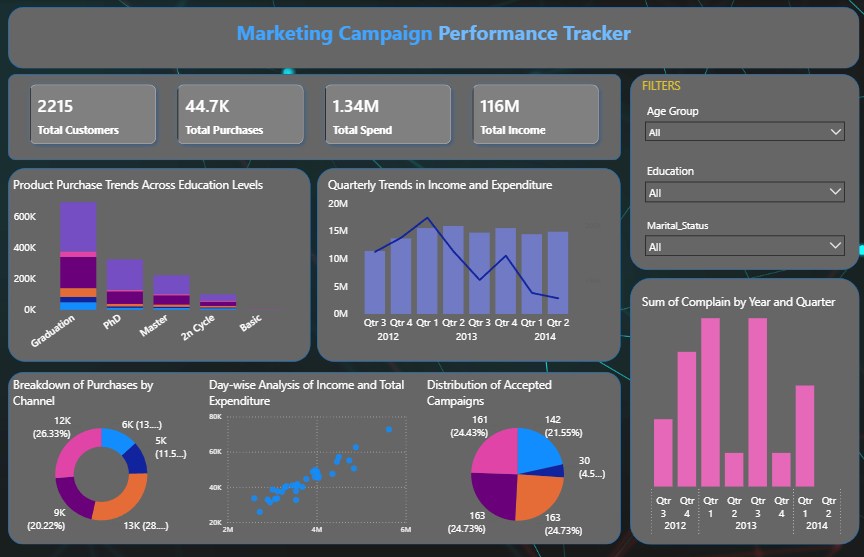

The dashboard page shown, as its layout file describes it:
{"tool":"powerbi","page":{"name":"Page 1","canvas":[1400,900],"ordinal":0},"visuals":[{"type":"shape","box":[1017.5,121.1,370.5,316.3],"z":0},{"type":"shape","box":[1017.5,450,370.5,430.1],"z":1000},{"type":"shape","box":[14.5,601.8,988.6,278.3],"z":2000},{"type":"shape","box":[513.3,272.9,489.8,312.7],"z":3000},{"type":"shape","box":[14.5,272.9,488,312.7],"z":4000},{"type":"shape","box":[14.5,121.1,988.6,139.2],"z":5000},{"type":"shape","box":[14.5,12.7,1373.5,99.4],"z":6000},{"type":"clusteredColumnChart","fields":{"Category":["marketing_data.Dt_Customer.Variation.Date Hierarchy.Year","marketing_data.Dt_Customer.Variation.Date Hierarchy.Quarter"],"Y":["Sum(marketing_data.Complain)"]},"box":[1031.9,475.3,341.6,397.6],"z":7000},{"type":"pieChart","title":"Distribution of Accepted Campaigns","fields":{"Y":["Sum(marketing_data.AcceptedCmp1)","Sum(marketing_data.AcceptedCmp2)","Sum(marketing_data.AcceptedCmp3)","Sum(marketing_data.AcceptedCmp4)","Sum(marketing_data.AcceptedCmp5)"]},"box":[684.9,609,301.8,263.9],"z":8000},{"type":"donutChart","title":"Breakdown of Purchases by Channel","fields":{"Y":["Sum(marketing_data.NumCatalogPurchases)","Sum(marketing_data.NumDealsPurchases)","Sum(marketing_data.NumStorePurchases)","Sum(marketing_data.NumWebPurchases)","Sum(marketing_data.NumWebVisitsMonth)"]},"box":[18.1,609,294.6,263.9],"z":9000},{"type":"lineClusteredColumnComboChart","title":"Quarterly Trends in Income and Expenditure","fields":{"Y":["Sum(marketing_data.Income)"],"Category":["marketing_data.Dt_Customer.Variation.Date Hierarchy.Year","marketing_data.Dt_Customer.Variation.Date Hierarchy.Quarter"],"Y2":["Sum(marketing_data.TotalSpend)"]},"box":[525.9,287.3,460.8,281.9],"z":10000},{"type":"lineStackedColumnComboChart","title":"Product Purchase Trends Across Education Levels","fields":{"Category":["marketing_data.Education"],"Y":["Sum(marketing_data.MntFishProducts)","Sum(marketing_data.MntFruits)","Sum(marketing_data.MntGoldProds)","Sum(marketing_data.MntMeatProducts)","Sum(marketing_data.MntSweetProducts)","Sum(marketing_data.MntWines)"]},"box":[18.1,287.3,477.1,298.2],"z":11000},{"type":"scatterChart","title":"Day-wise Analysis of Income and Total Expenditure","fields":{"X":["Sum(marketing_data.Income)"],"Category":["marketing_data.Dt_Customer.Variation.Date Hierarchy.Day"],"Y":["Sum(marketing_data.TotalSpend)"]},"box":[334.3,609,336.1,263.9],"z":12000},{"type":"cardVisual","fields":{"Data":["CountNonNull(marketing_data.ID)","Sum(marketing_data.TotalPurchases)","Sum(marketing_data.TotalSpend)","Sum(marketing_data.Income)"]},"box":[32.5,121.1,954.2,130.1],"z":13000},{"type":"textbox","box":[356,25.3,688.6,75.9],"z":14000},{"type":"slicer","fields":{"Values":["marketing_data.Age Group"]},"box":[1031.9,162.7,341.6,88.6],"z":15000},{"type":"slicer","fields":{"Values":["marketing_data.Education"]},"box":[1031.9,260.2,341.6,88.6],"z":16000},{"type":"slicer","fields":{"Values":["marketing_data.Marital_Status"]},"box":[1031.9,348.8,341.6,79.5],"z":17000},{"type":"textbox","box":[1031.9,121.1,122.9,41.6],"z":17001}]}

Visuals, with their boxes in screenshot pixels (x1, y1, x2, y2), scaled from the page's 1400x900 canvas onto the 864x557 screenshot:
shape: <region>628, 75, 857, 271</region>
shape: <region>628, 278, 857, 545</region>
shape: <region>9, 372, 619, 545</region>
shape: <region>317, 169, 619, 362</region>
shape: <region>9, 169, 310, 362</region>
shape: <region>9, 75, 619, 161</region>
shape: <region>9, 8, 857, 69</region>
clusteredColumnChart - marketing_data.Dt_Customer.Variation.Date Hierarchy.Year x marketing_data.Dt_Customer.Variation.Date Hierarchy.Quarter: <region>637, 294, 848, 540</region>
"Distribution of Accepted Campaigns" pieChart: <region>423, 377, 609, 540</region>
"Breakdown of Purchases by Channel" donutChart: <region>11, 377, 193, 540</region>
"Quarterly Trends in Income and Expenditure" lineClusteredColumnComboChart: <region>325, 178, 609, 352</region>
"Product Purchase Trends Across Education Levels" lineStackedColumnComboChart: <region>11, 178, 306, 362</region>
"Day-wise Analysis of Income and Total Expenditure" scatterChart: <region>206, 377, 414, 540</region>
cardVisual - CountNonNull(marketing_data.ID) x Sum(marketing_data.TotalPurchases): <region>20, 75, 609, 155</region>
textbox: <region>220, 16, 645, 63</region>
slicer - marketing_data.Age Group: <region>637, 101, 848, 156</region>
slicer - marketing_data.Education: <region>637, 161, 848, 216</region>
slicer - marketing_data.Marital_Status: <region>637, 216, 848, 265</region>
textbox: <region>637, 75, 713, 101</region>
